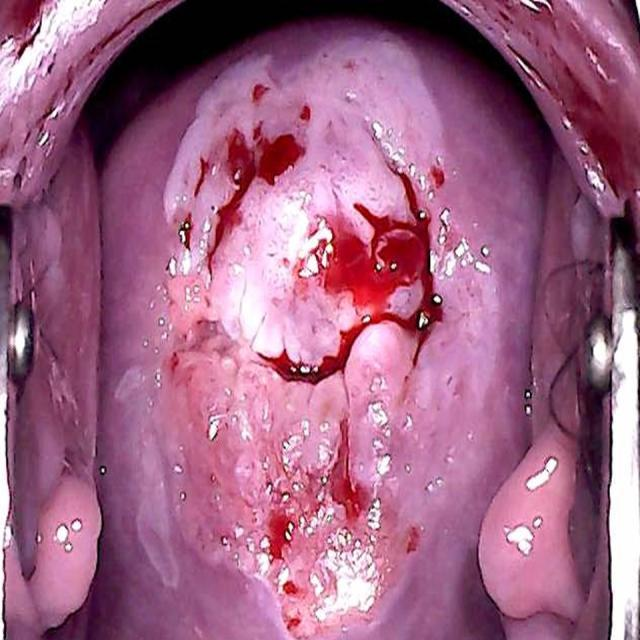cervical_lesion: (147, 18, 511, 640)
